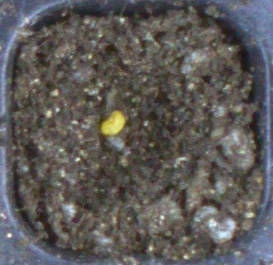chilli seed: (99, 110, 125, 135)
